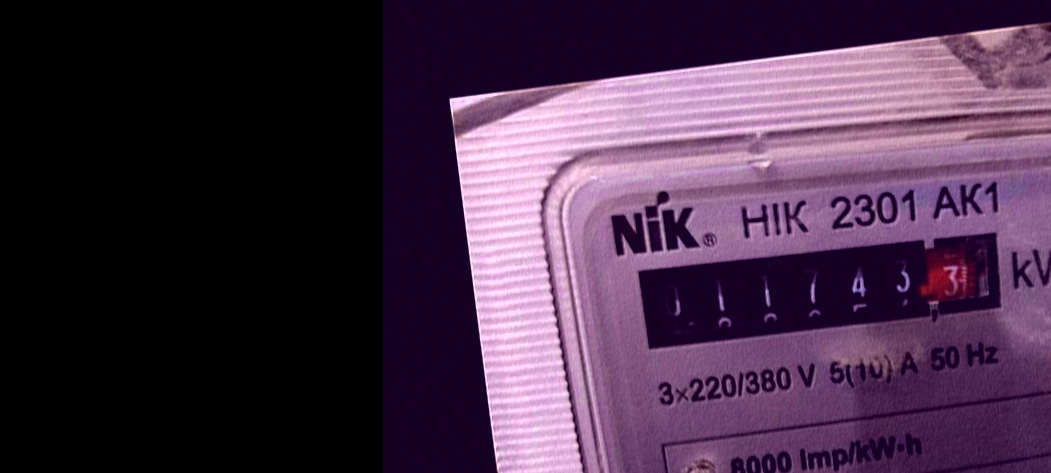0: (661, 280, 688, 321), (710, 273, 733, 316)
1: (757, 269, 778, 311)
3: (891, 254, 917, 299), (941, 261, 965, 301)
4: (847, 260, 872, 302)
7: (800, 262, 828, 309)
screen: (619, 212, 1017, 367)
